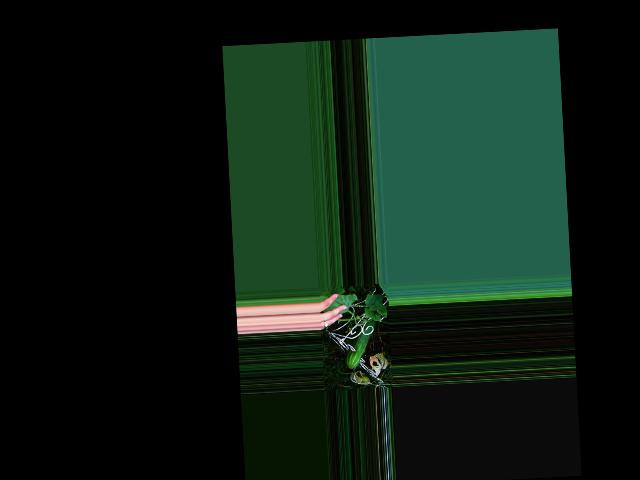cucumber: (342, 318, 378, 368)
